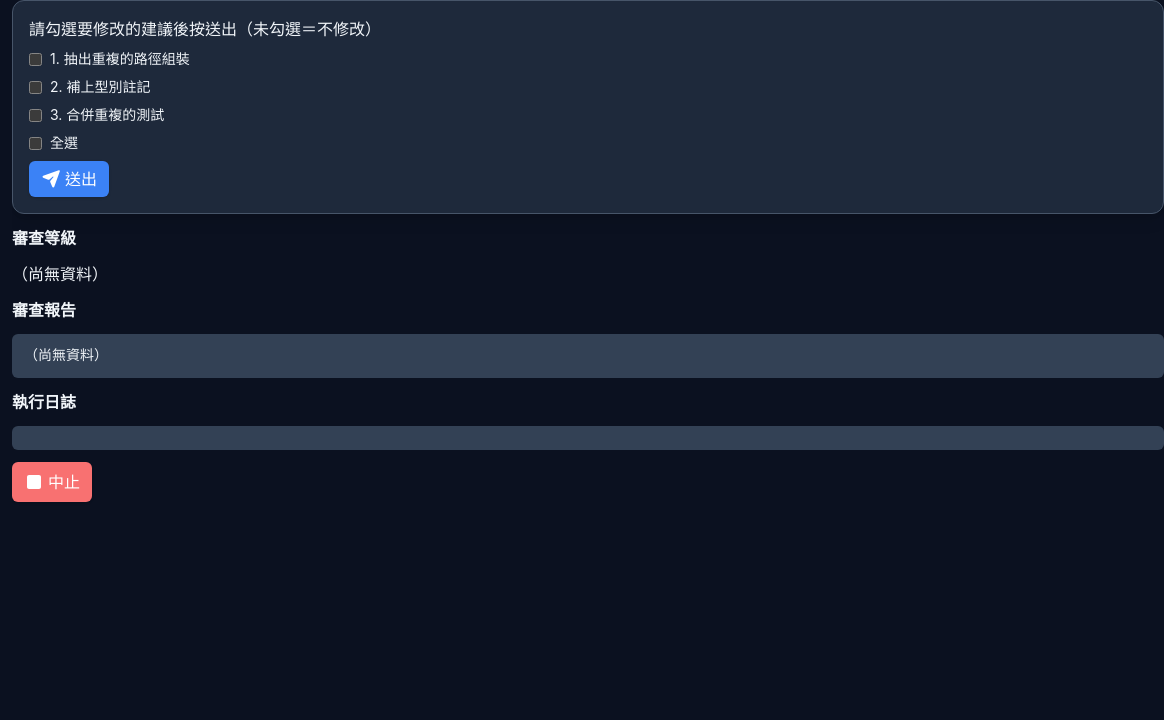
Test: StageDetail › 點擊全選切換時勾選或取消全部建議
The width and height of the screenshot is (1164, 720).
Click the checkbox with class "select-all-checkbox" at x=36, y=143, box 29,136 -> 42,150
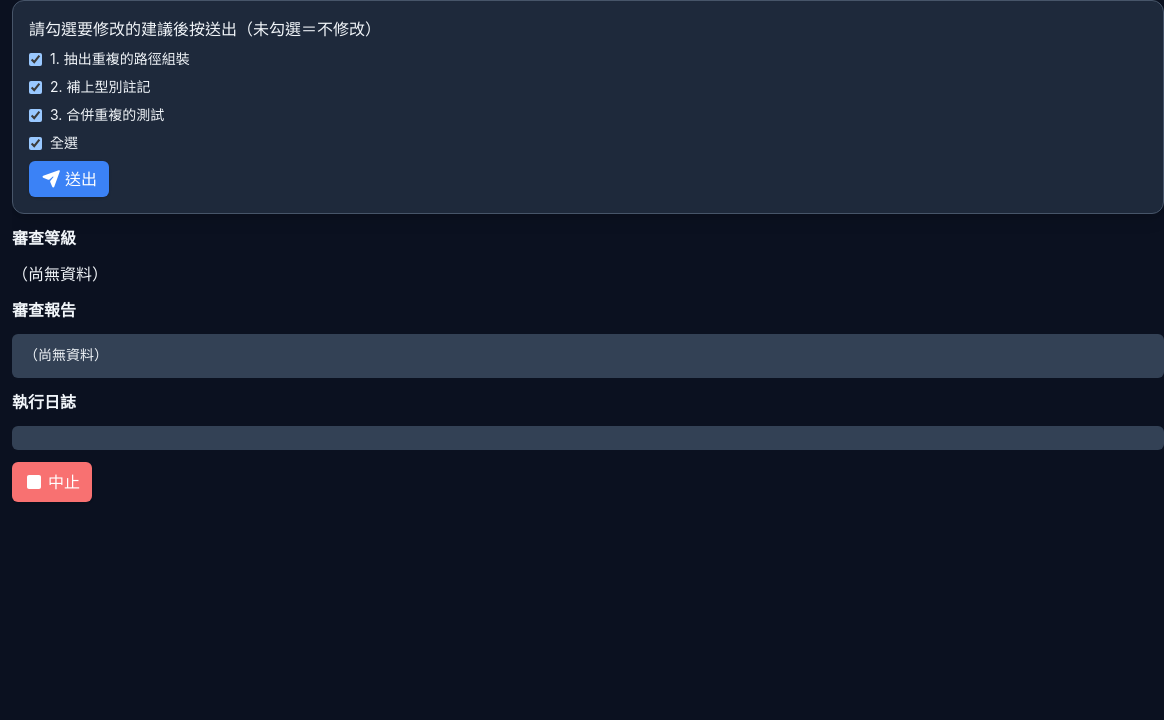
Now the checkbox with class "suggestion-checkbox" showing "1. 抽出重複的路徑組裝" is checked, box 29,53 -> 42,66
Now the checkbox with class "suggestion-checkbox" showing "2. 補上型別註記" is checked, box 29,81 -> 42,94
Now the checkbox with class "suggestion-checkbox" showing "3. 合併重複的測試" is checked, box 29,109 -> 42,122
Click the button "送出" at x=69, y=179, box 29,161 -> 109,197
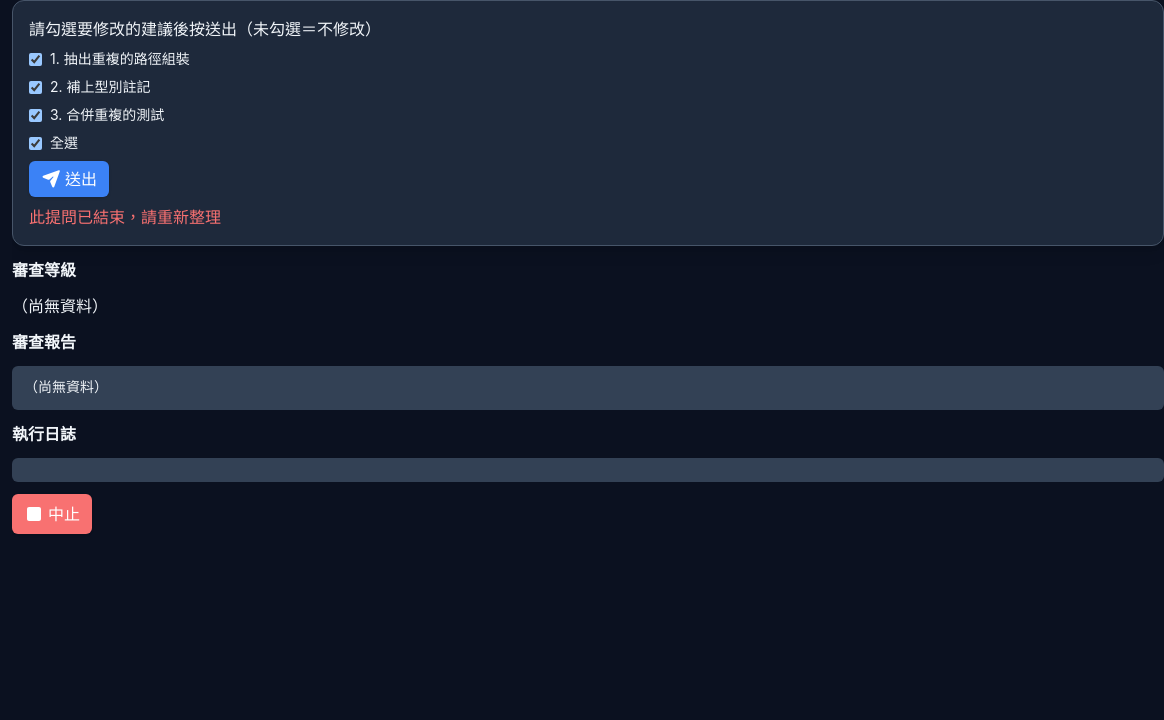
Click the checkbox with class "select-all-checkbox" at x=36, y=143, box 29,136 -> 42,150
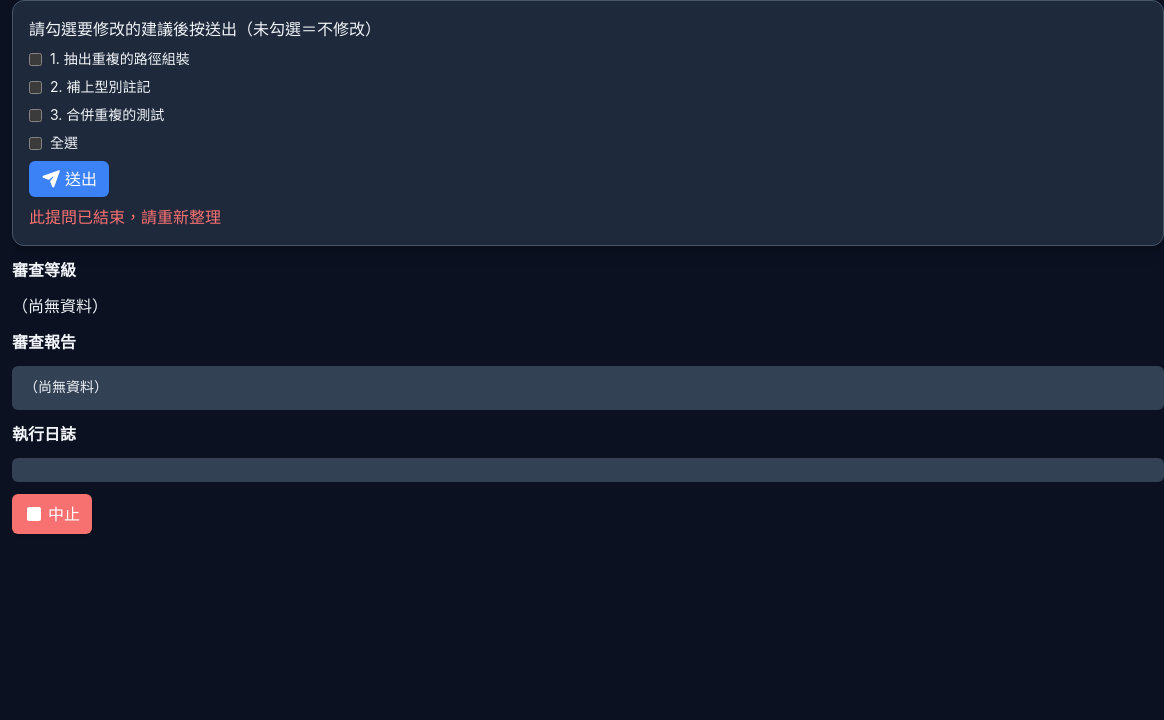
Now the checkbox with class "suggestion-checkbox" showing "1. 抽出重複的路徑組裝" is not checked, box 29,53 -> 42,66
Now the checkbox with class "suggestion-checkbox" showing "2. 補上型別註記" is not checked, box 29,81 -> 42,94
Now the checkbox with class "suggestion-checkbox" showing "3. 合併重複的測試" is not checked, box 29,109 -> 42,122
